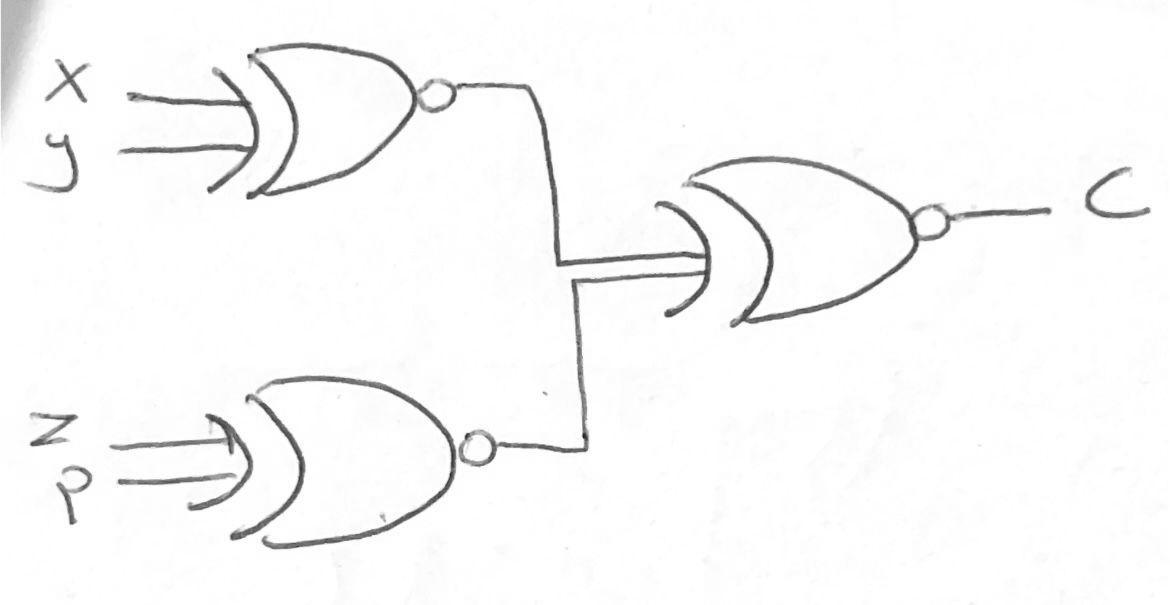XNOR: (633, 130, 987, 345), (176, 340, 527, 555), (194, 26, 470, 239)
